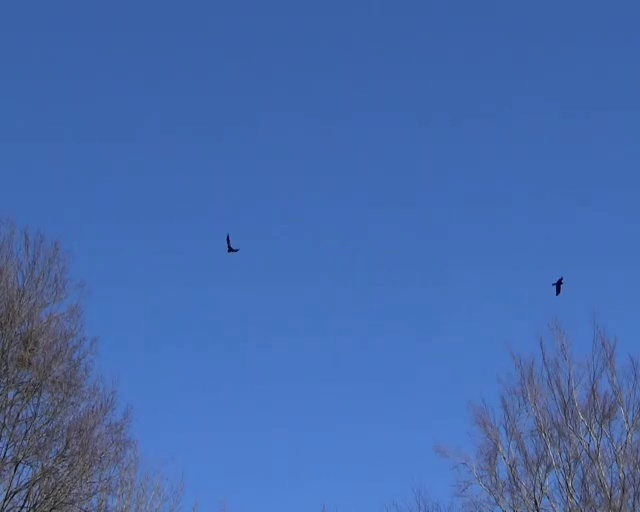BIRD: (552, 275, 564, 296)
